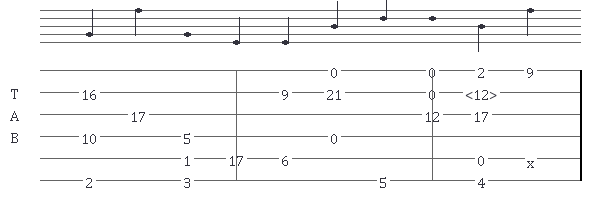0: (330, 129, 342, 143), (330, 63, 342, 77), (428, 63, 440, 77), (428, 85, 440, 99), (477, 151, 489, 165)
1: (183, 151, 195, 165)
10: (81, 129, 101, 143)
12: (424, 107, 444, 121)
16: (81, 85, 101, 99)
17: (130, 107, 150, 121), (228, 151, 248, 165), (473, 107, 493, 121)
2: (85, 173, 97, 187), (477, 63, 489, 77)
21: (326, 85, 346, 99)
3: (183, 173, 195, 187)
4: (477, 173, 489, 187)
5: (183, 129, 195, 144), (379, 173, 391, 188)
6: (281, 151, 293, 165)
9: (281, 85, 293, 99), (526, 63, 538, 77)
harmonic: (465, 85, 501, 99)
x: (527, 153, 538, 164)
